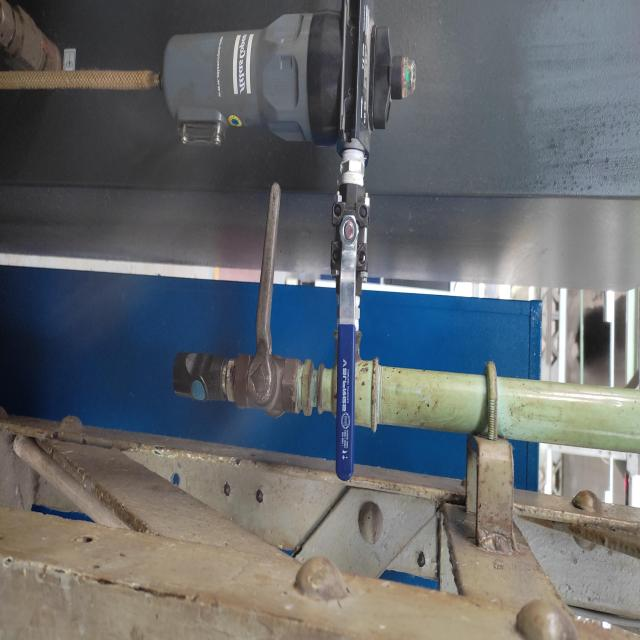closed_valve: (232, 177, 300, 420)
opened_valve: (328, 172, 371, 481)
